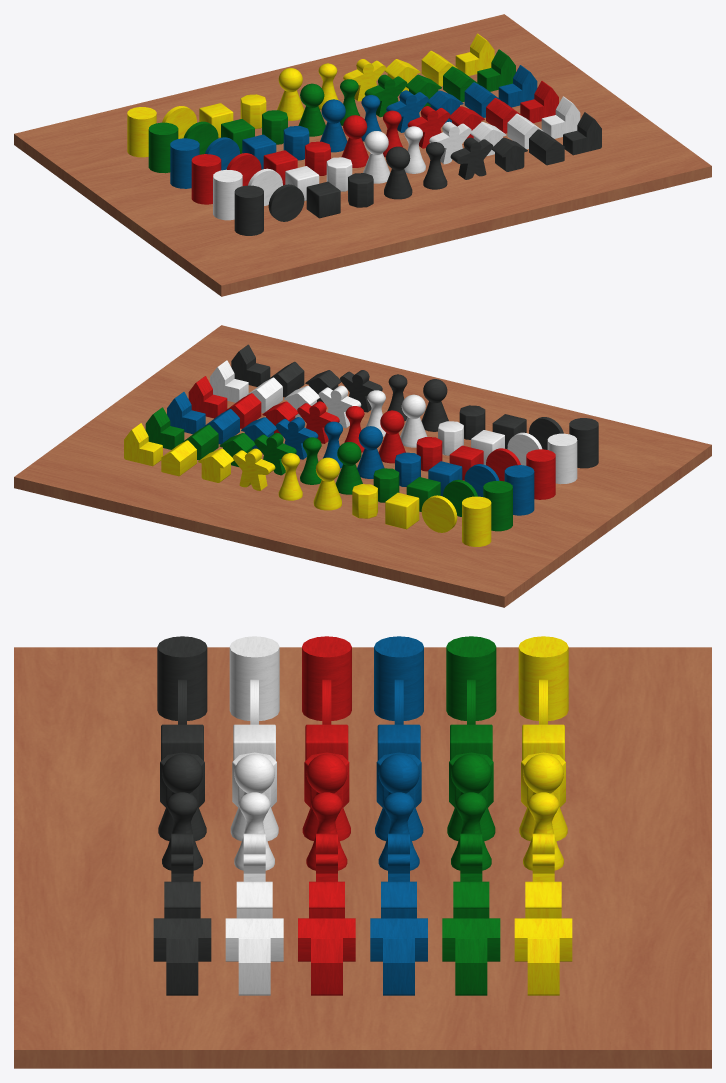
The model's file is playing_piece_set_for_board_games.glb.
The picture shows the model from 3 angles, top to bottom: view 1: azimuth 30°, elevation 25°; view 2: azimuth 150°, elevation 25°; view 3: azimuth 270°, elevation 25°; orthographic projection. The views are drawn at different scales.
Visible parts, largest first — view 1: Plane_0, BlackCylinder_10, GreenCylinder_30, RedCylinder_50, WhiteCylinder_60, BlueCylinder_40, YellowCylinder_20, BlackGameFigure1_1, BlackGameFigure3_3, BlackChurch_9, BlackCube_4, BlackCoin_5 (+49 smaller); view 2: Plane_0, YellowCylinder_20, WhiteCylinder_60, BlueCylinder_40, GreenCylinder_30, RedCylinder_50, BlackCylinder_10, YellowGameFigure1_11, YellowGameFigure3_13, YellowChurch_19, YellowCube_14, YellowCoin_15 (+49 smaller); view 3: Plane_0, GreenCylinder_30, WhiteCylinder_60, BlackCylinder_10, YellowCylinder_20, BlueCylinder_40, RedCylinder_50, BlackGameFigure1_1, YellowGameFigure1_11, BlueGameFigure1_31, RedGameFigure1_41, GreenGameFigure1_21 (+43 smaller).
Part boxes in pixels (left/top/right/bottom): Plane_0: left=14, top=14, right=711, bottom=296; BlackCylinder_10: left=234, top=185, right=263, bottom=235; GreenCylinder_30: left=148, top=122, right=178, bottom=173; RedCylinder_50: left=191, top=154, right=221, bottom=204; WhiteCylinder_60: left=213, top=169, right=242, bottom=220; BlueCylinder_40: left=170, top=138, right=199, bottom=188; YellowCylinder_20: left=127, top=107, right=156, bottom=157; BlackGameFigure1_1: left=384, top=146, right=412, bottom=199; BlackGameFigure3_3: left=450, top=137, right=493, bottom=179; BlackChurch_9: left=563, top=112, right=601, bottom=155; BlackCube_4: left=306, top=181, right=340, bottom=218; BlackCoin_5: left=268, top=184, right=304, bottom=221; Plane_0: left=14, top=325, right=711, bottom=607; YellowCylinder_20: left=462, top=496, right=491, bottom=546; WhiteCylinder_60: left=547, top=433, right=577, bottom=484; BlueCylinder_40: left=504, top=465, right=534, bottom=515; GreenCylinder_30: left=483, top=480, right=512, bottom=531; RedCylinder_50: left=526, top=449, right=555, bottom=499; BlackCylinder_10: left=569, top=418, right=598, bottom=468; YellowGameFigure1_11: left=313, top=457, right=341, bottom=510; YellowGameFigure3_13: left=232, top=448, right=275, bottom=490; YellowChurch_19: left=124, top=423, right=162, bottom=466; YellowCube_14: left=385, top=492, right=419, bottom=529; YellowCoin_15: left=421, top=495, right=457, bottom=532; Plane_0: left=14, top=647, right=711, bottom=1068; GreenCylinder_30: left=446, top=636, right=496, bottom=720; WhiteCylinder_60: left=229, top=636, right=279, bottom=720; BlackCylinder_10: left=157, top=636, right=207, bottom=720; YellowCylinder_20: left=518, top=636, right=568, bottom=720; BlueCylinder_40: left=374, top=636, right=423, bottom=720; RedCylinder_50: left=302, top=636, right=351, bottom=720; BlackGameFigure1_1: left=158, top=754, right=206, bottom=841; YellowGameFigure1_11: left=519, top=754, right=567, bottom=841; BlueGameFigure1_31: left=375, top=754, right=423, bottom=840; RedGameFigure1_41: left=302, top=754, right=350, bottom=840; GreenGameFigure1_21: left=447, top=754, right=495, bottom=841.
Size of the model in its own units: 52.77 by 5.87 by 38.66.
Materials: 7 (7 with a texture image).
